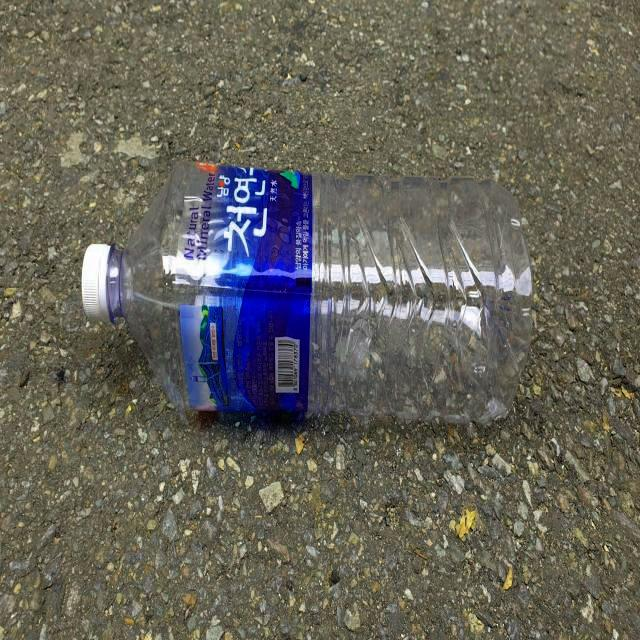bottle: (81, 158, 539, 433)
